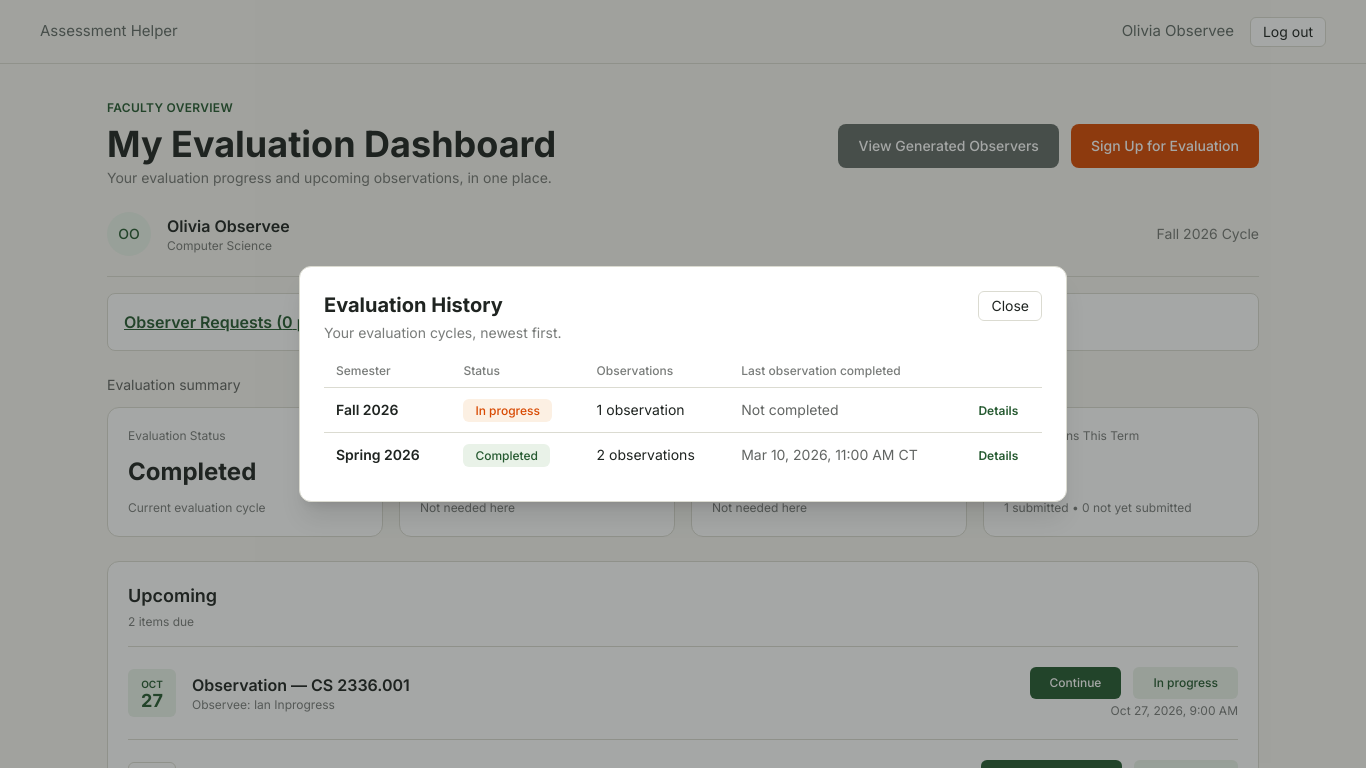
Scenario: choosing Details shows that cycle's observations
This screenshot has width=1366, height=768.
Click the link named "Details (Spring 2026)": [998, 456] box [978,448,1018,463]
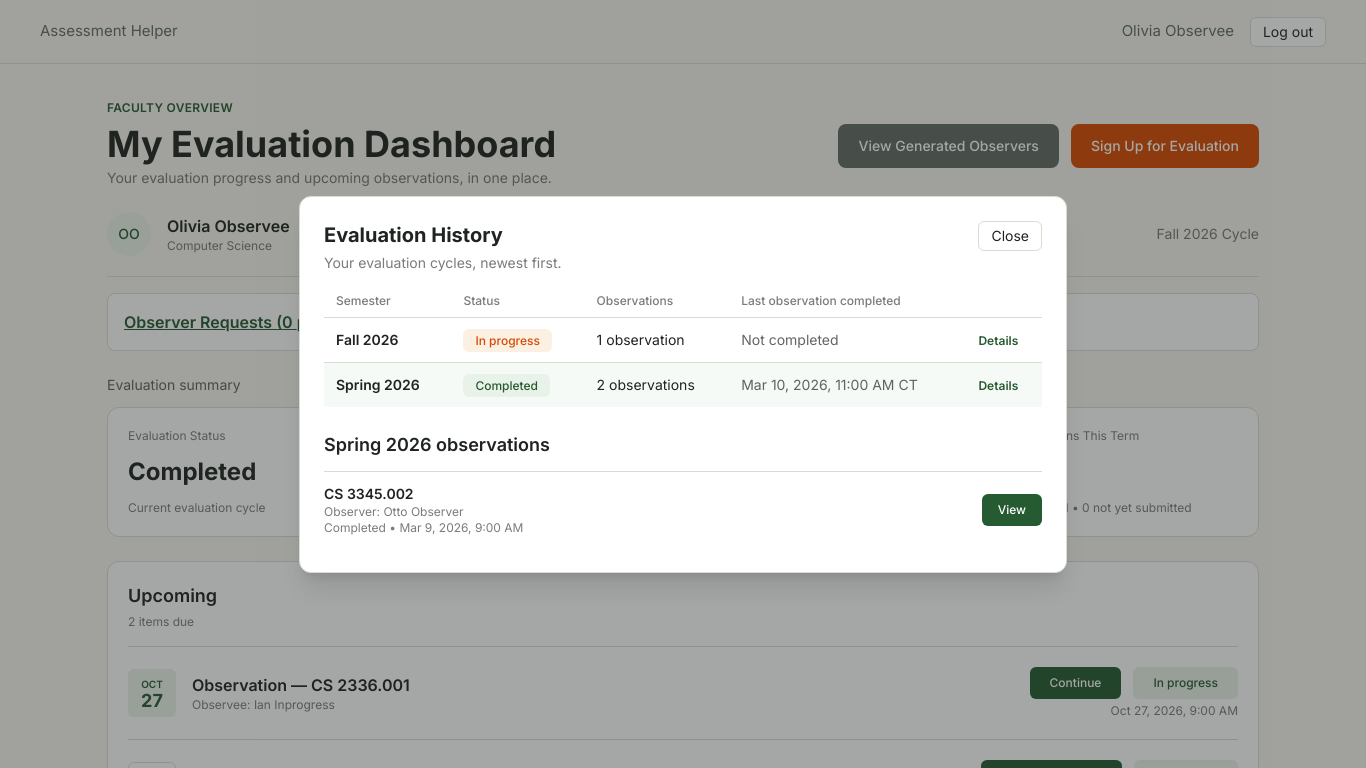
Result: the link named "View CS 3345.002" is shown at [982,494,1042,526]
Result: the number of list items is 1 at [324,470,1042,548]
